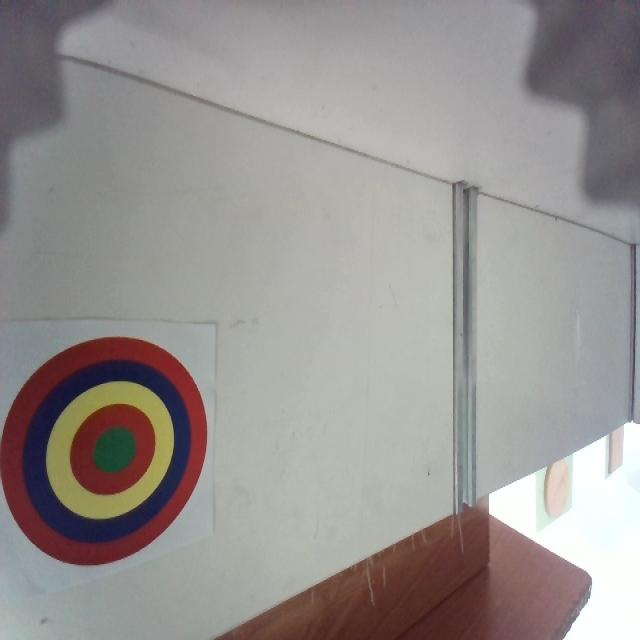cogn: (2, 334, 212, 569)
